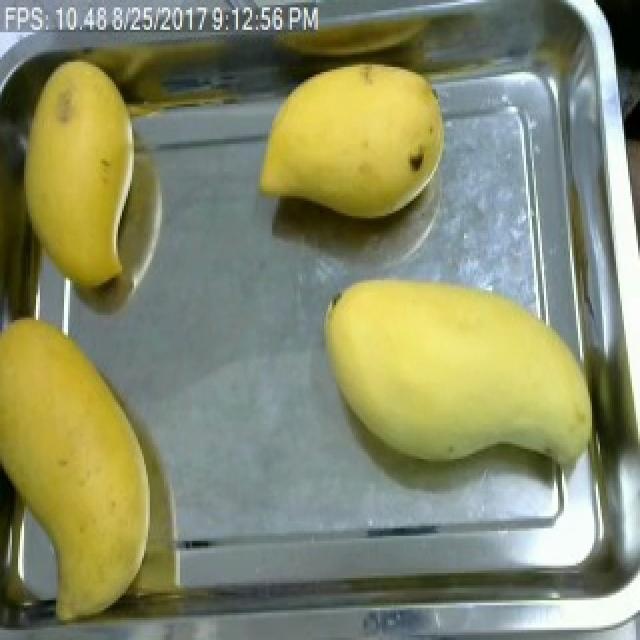fruit: (304, 253, 606, 481), (0, 305, 168, 633), (246, 47, 464, 243), (10, 47, 154, 303)
